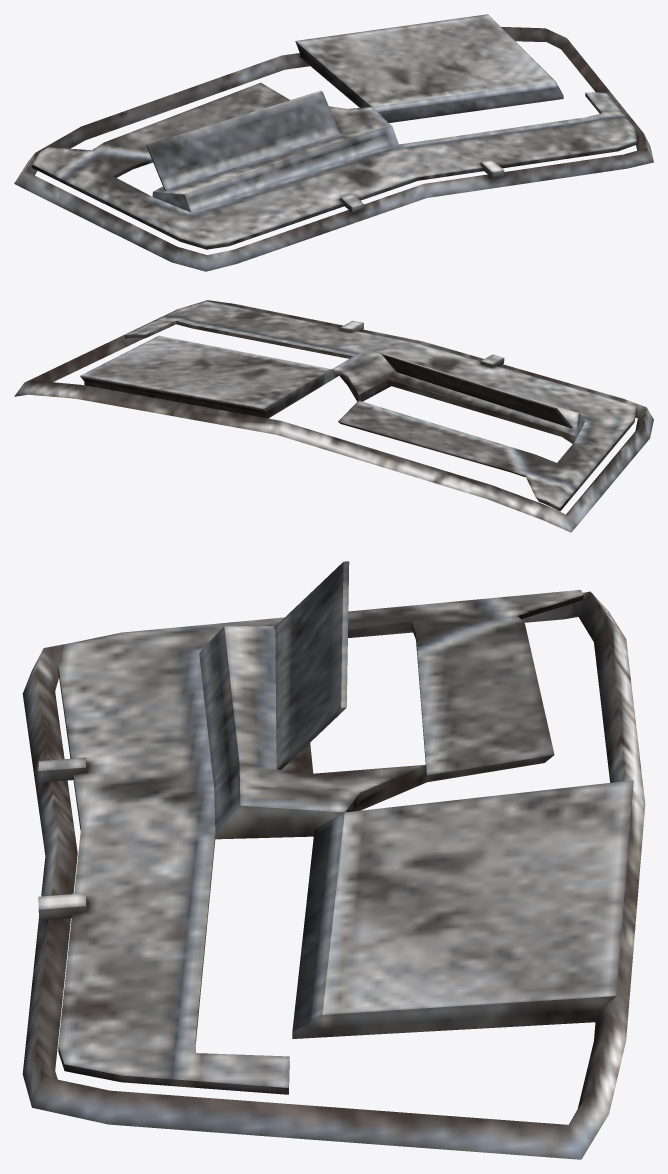
The model's file is FordExplorerWindshieldArmor_WorldItem.fbx.
3 renders of one model, top to bottom at view 1: azimuth 30°, elevation 25°; view 2: azimuth 150°, elevation 25°; view 3: azimuth 270°, elevation 25°, orthographic. The views are drawn at different scales.
Visible parts, largest first — view 1: WindshieldArmor_obj; view 2: WindshieldArmor_obj; view 3: WindshieldArmor_obj.
Part boxes in pixels (x1,y1,x2,y2): WindshieldArmor_obj: (14, 14, 653, 271); WindshieldArmor_obj: (14, 300, 653, 532); WindshieldArmor_obj: (22, 561, 645, 1159).
Bounding box in the file's own units: 2.11 × 0.2789 × 1.02.
